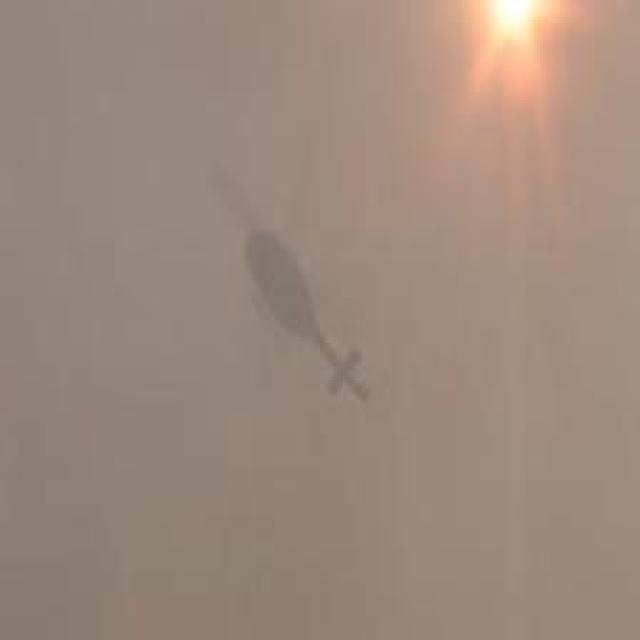other: (433, 1, 586, 168)
